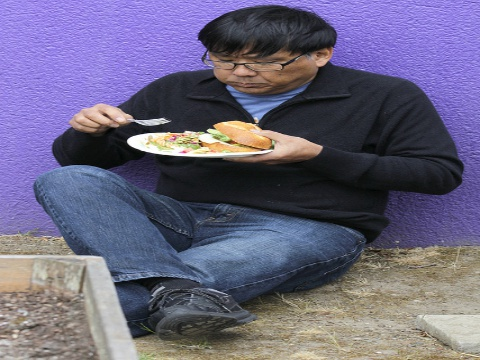hand: (68, 103, 134, 134)
